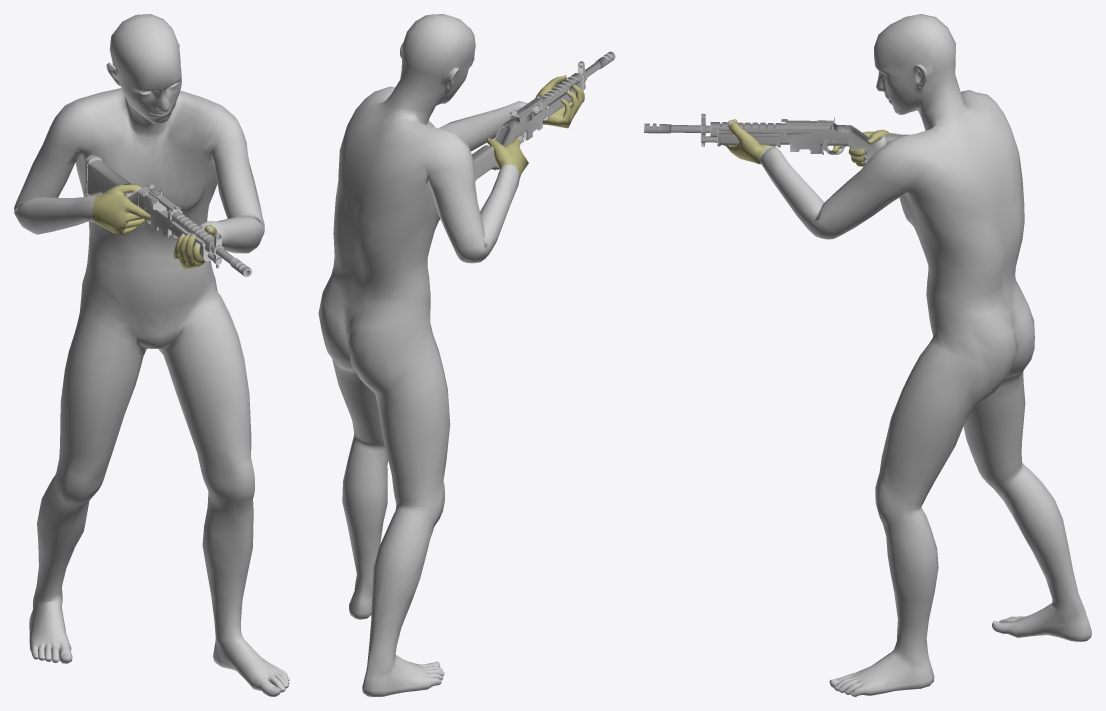
The model's file is rifle.glb.
3 renders of one model, left to right at view 1: azimuth 30°, elevation 25°; view 2: azimuth 150°, elevation 25°; view 3: azimuth 270°, elevation 25°, orthographic. The views are drawn at different scales.
Parts seen in each view (by area): view 1: man001; view 2: man001; view 3: man001.
Boxes of the visible parts, x1,y1,x2,y2 form: man001: (14, 14, 289, 696); man001: (318, 14, 615, 696); man001: (644, 14, 1091, 696).
Bounding box in the file's own units: 0.5511 × 1.74 × 1.12.
